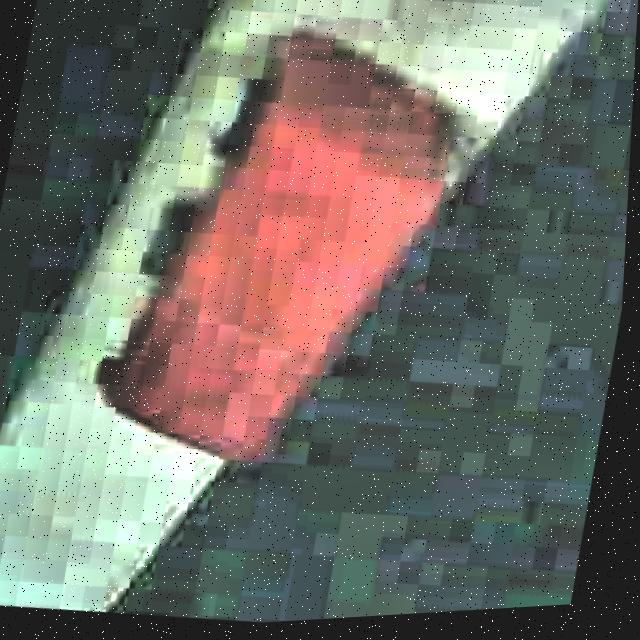bus: (80, 0, 476, 496)
